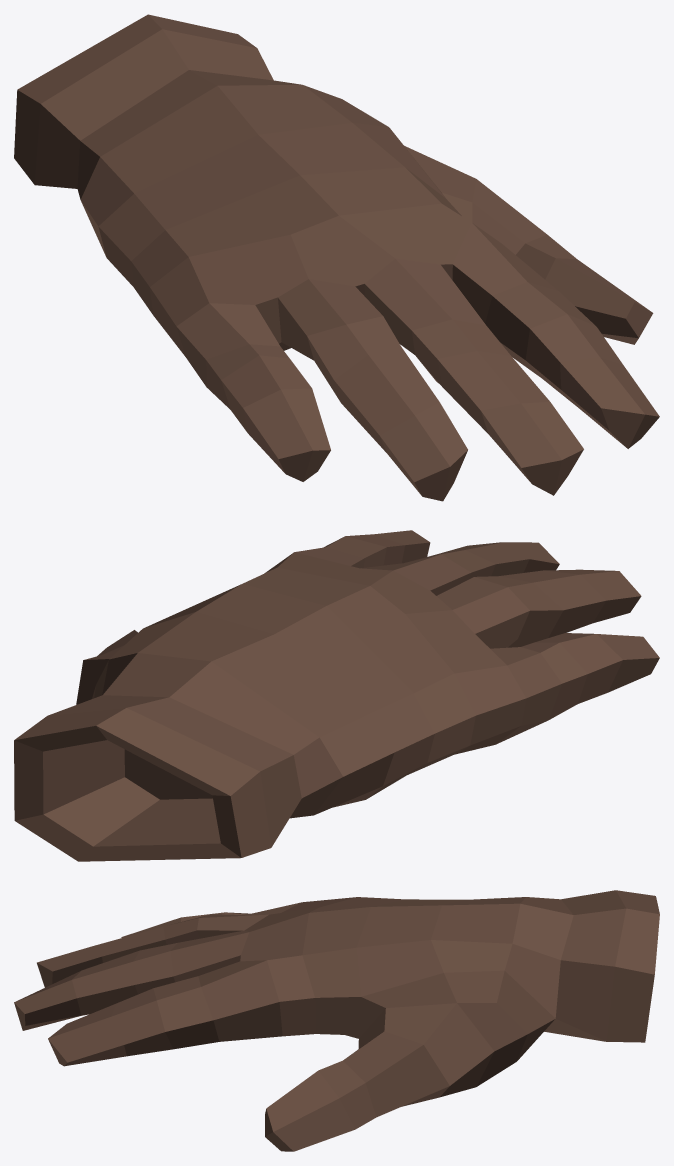
Rendered from ManoDef.fbx.
3 views of the same model, one above another, from view 1: azimuth 30°, elevation 25°; view 2: azimuth 150°, elevation 25°; view 3: azimuth 270°, elevation 25° (orthographic). The views are drawn at different scales.
Parts seen in each view (by area): view 1: Glove; view 2: Glove; view 3: Glove.
Part boxes in pixels (left/top/right/bottom): Glove: left=14, top=14, right=659, bottom=501; Glove: left=14, top=530, right=659, bottom=861; Glove: left=14, top=890, right=659, bottom=1151.
Bounding box in the file's own units: 59.83 × 25.21 × 95.58.
